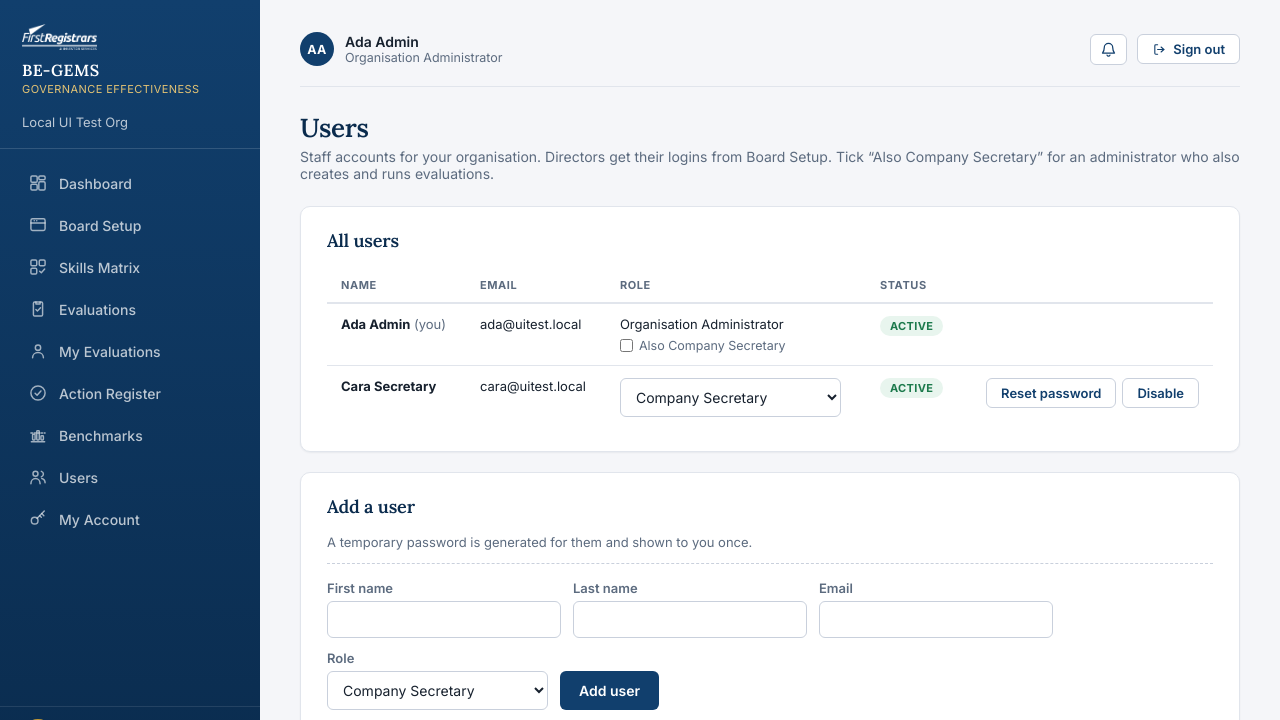
it: UsersPage › doesn't offer self-management actions on the admin's own row
This screenshot has width=1280, height=720.
Step 1. Click the button "Reset password" → (1051, 393), box [986,378,1116,408]
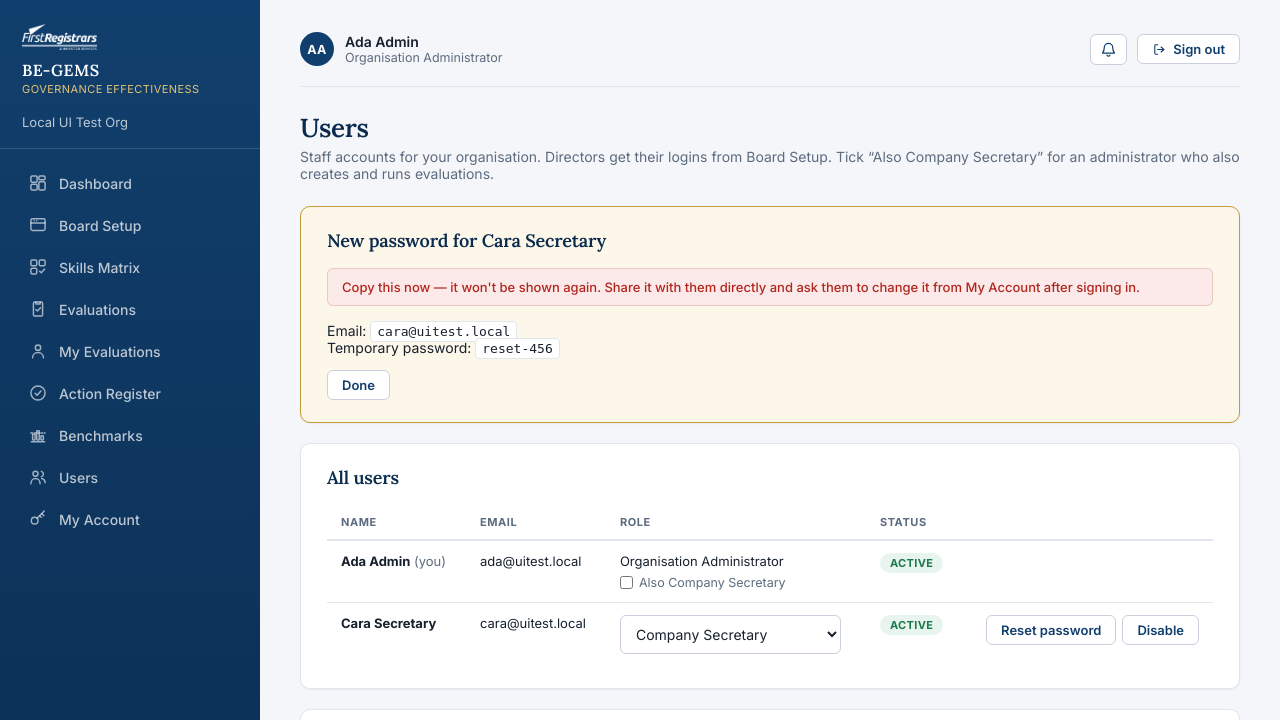
Result: the text "reset-456" is shown at [475,338,560,359]
